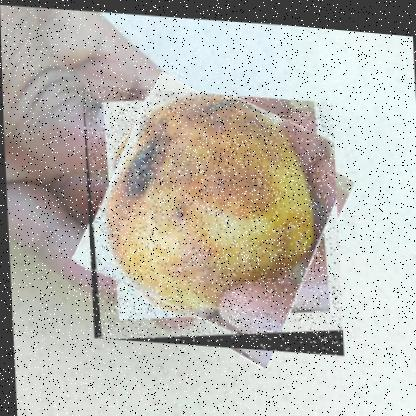guava_rotten: (81, 78, 342, 353)
